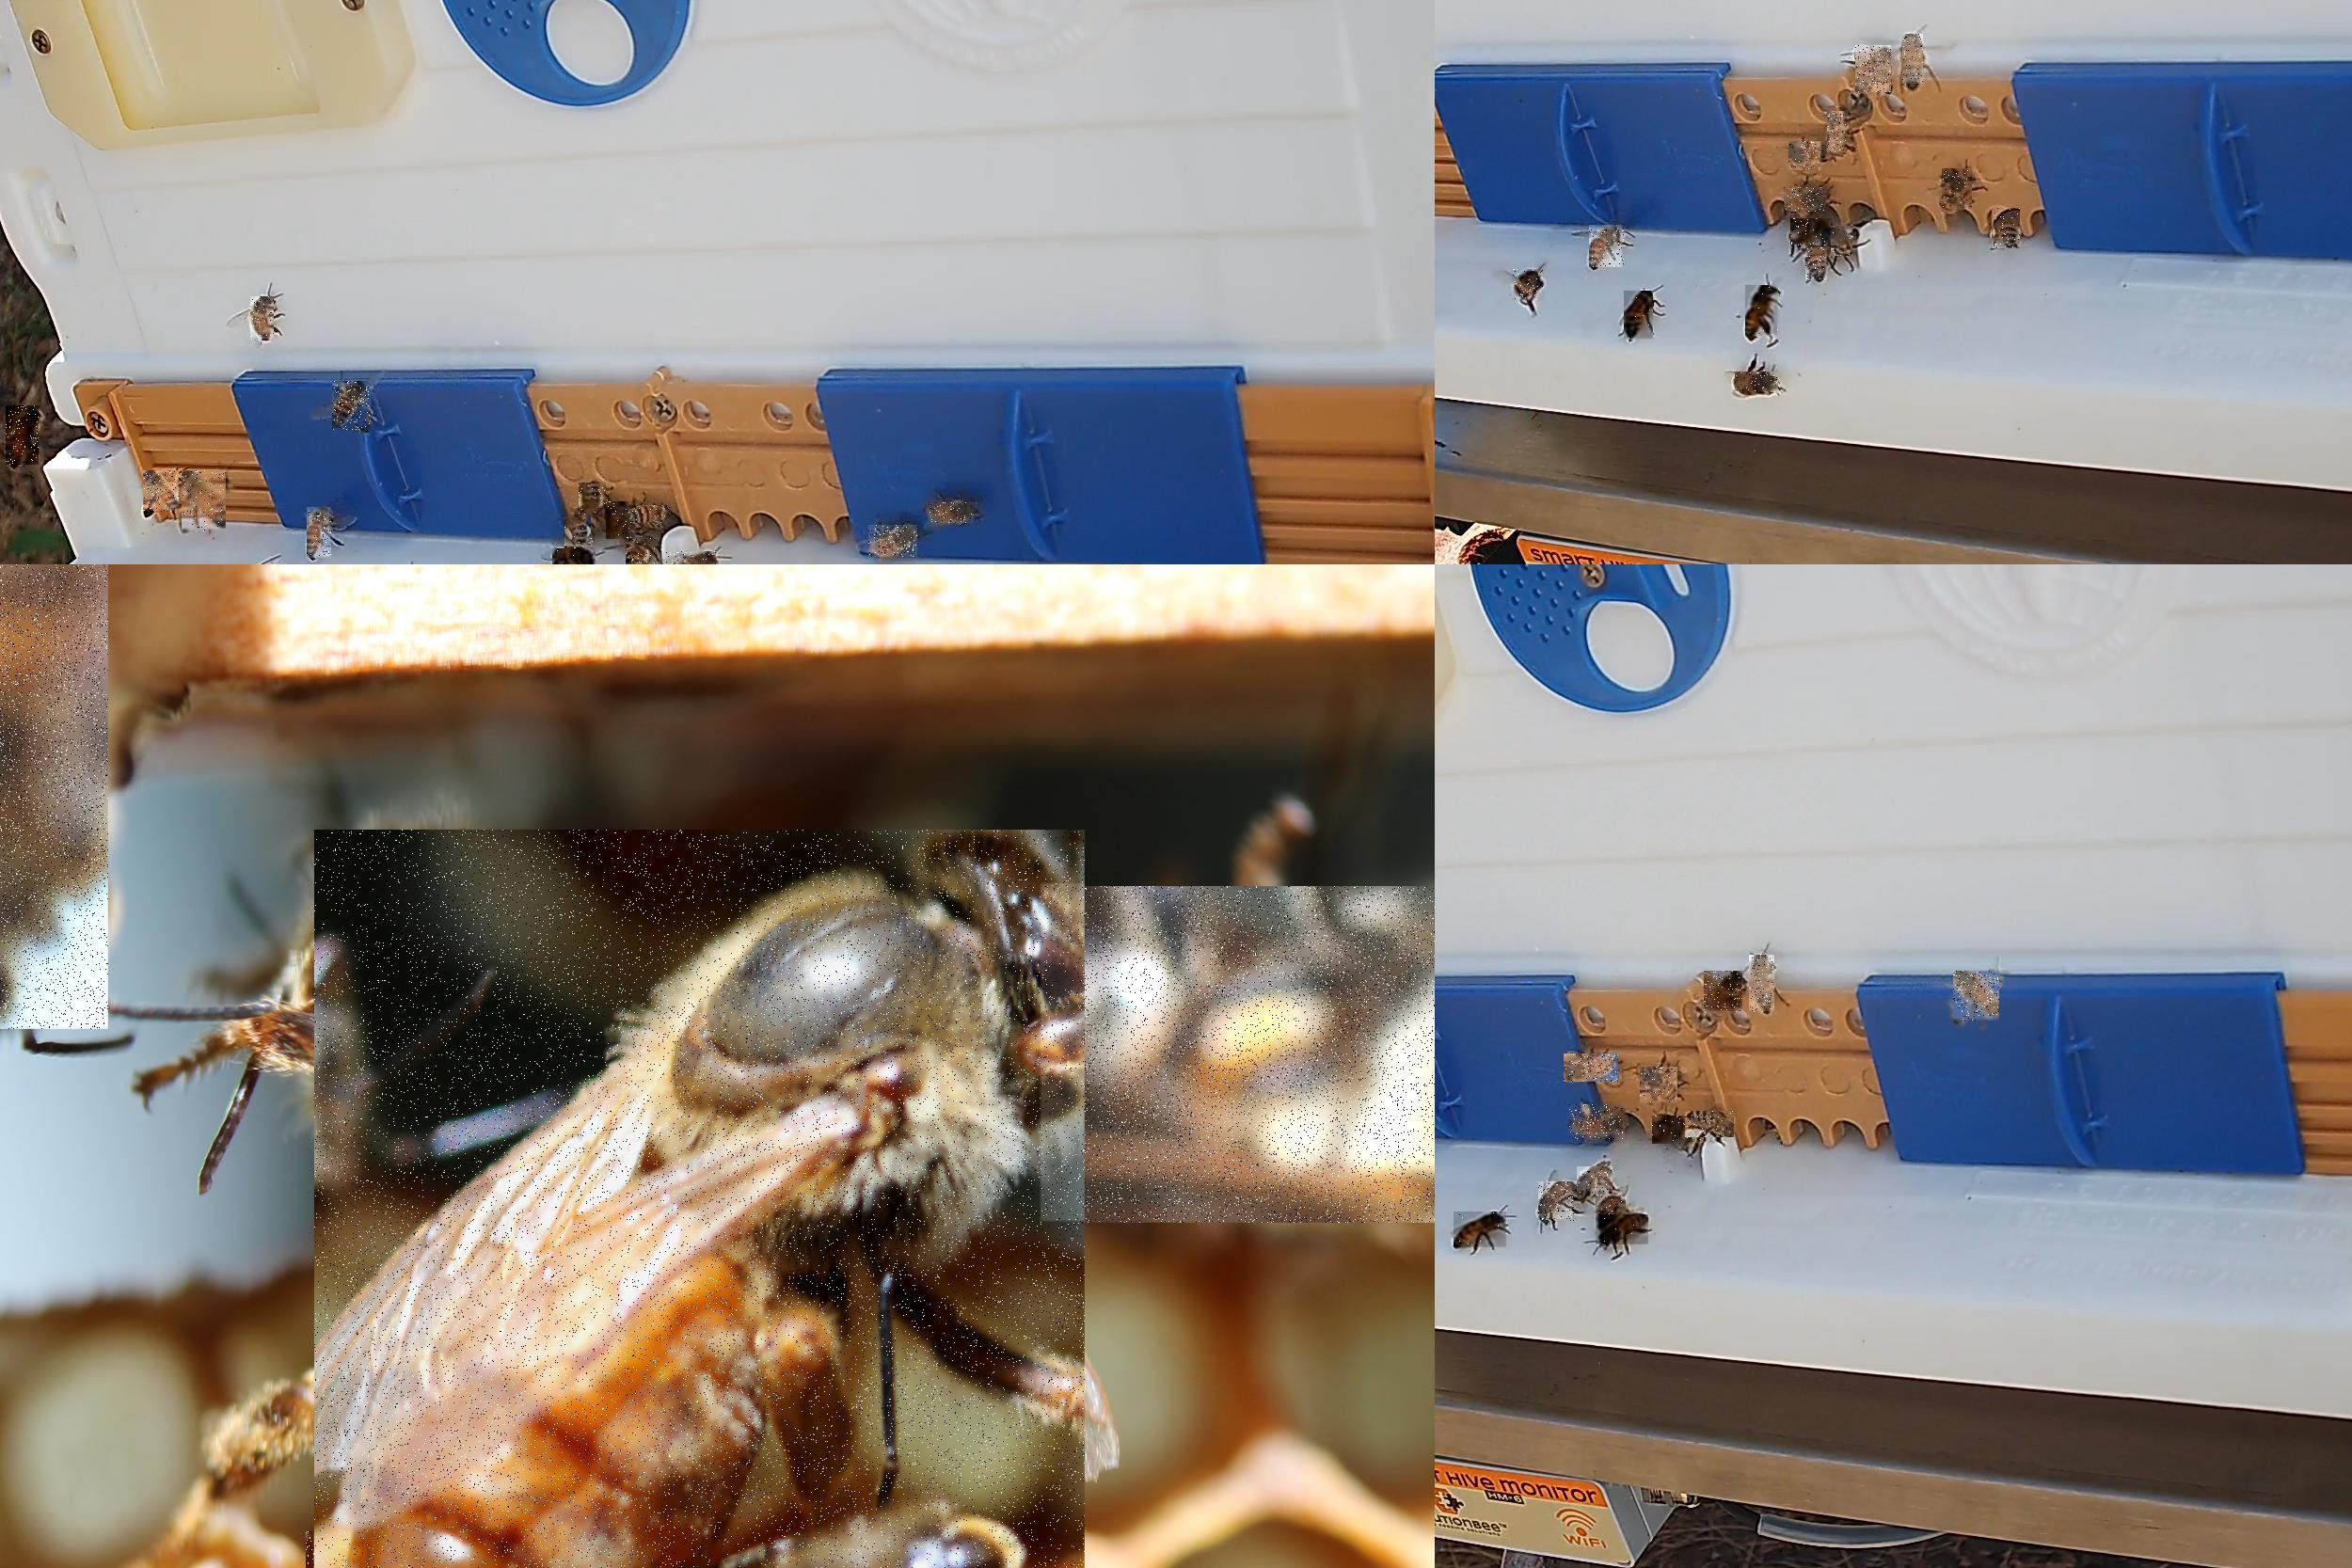bee: (1039, 885, 1433, 1225), (0, 563, 110, 1031), (182, 471, 227, 534), (1953, 971, 2000, 1024), (5, 406, 40, 465), (332, 381, 371, 432), (1454, 1211, 1507, 1248), (1746, 285, 1781, 338), (1855, 45, 1892, 93), (868, 525, 919, 558), (1596, 1214, 1648, 1246), (1704, 971, 1743, 1013), (1564, 1053, 1619, 1083), (143, 471, 180, 513), (1591, 224, 1626, 268), (1748, 955, 1774, 1013), (1624, 292, 1654, 343), (1640, 1067, 1678, 1106), (1540, 1181, 1575, 1223), (1685, 1111, 1734, 1141), (308, 507, 334, 560), (1943, 170, 1974, 208), (1790, 219, 1832, 247), (1512, 269, 1545, 303), (1788, 142, 1825, 171), (250, 297, 275, 341), (1902, 35, 1923, 86), (1785, 187, 1825, 213), (1577, 1167, 1613, 1195), (628, 506, 672, 528), (1652, 1115, 1685, 1144), (929, 502, 975, 523), (1736, 373, 1781, 394), (607, 502, 632, 541), (1806, 243, 1829, 282), (1596, 1195, 1626, 1223), (1829, 112, 1848, 154), (1832, 226, 1857, 257), (553, 548, 597, 563), (663, 551, 717, 563)
pollenbee: (1570, 1104, 1626, 1141), (1991, 208, 2021, 248), (579, 483, 609, 521), (565, 518, 595, 549), (626, 537, 656, 563)
queen: (315, 829, 1085, 1566)
